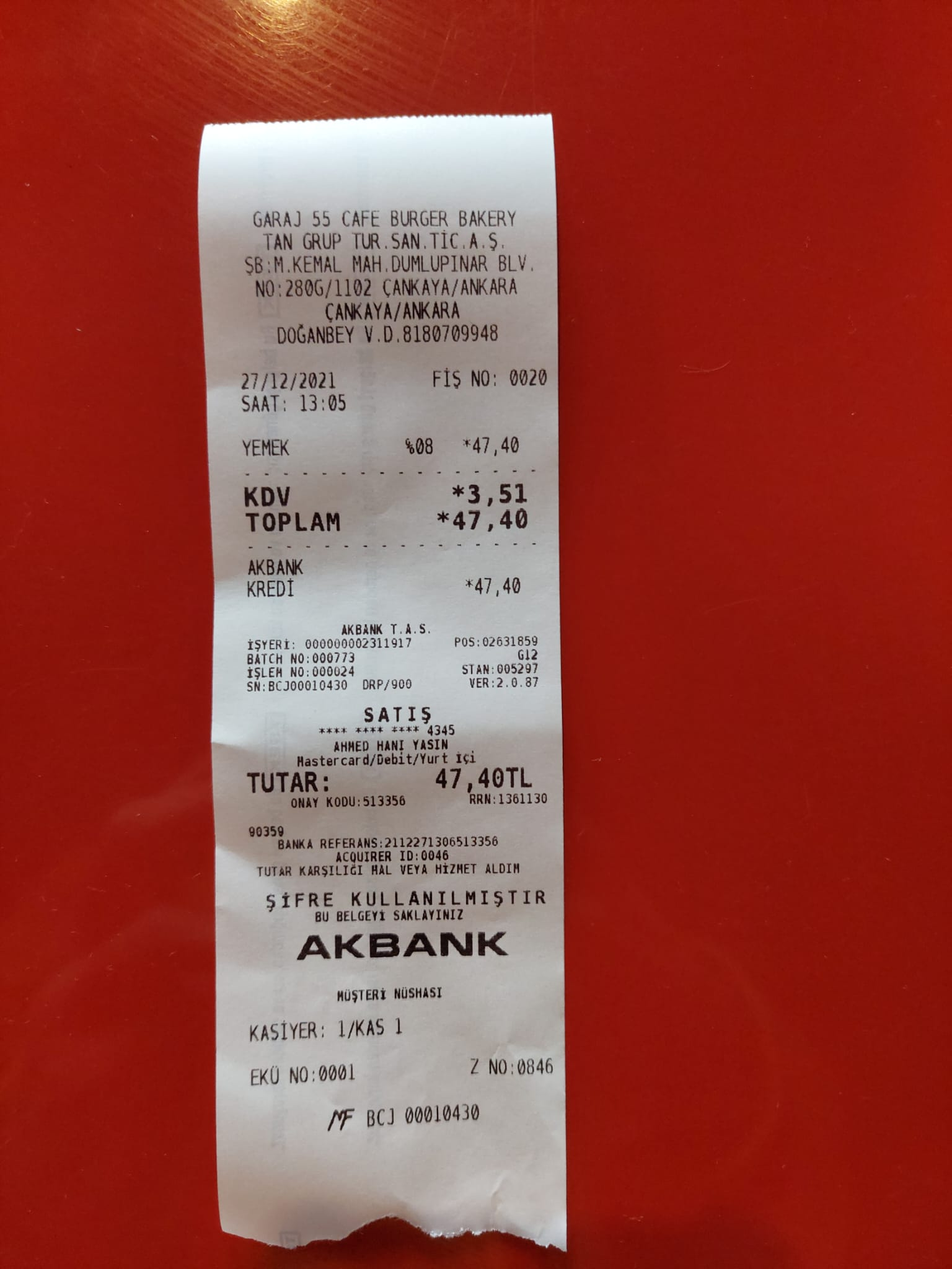date: (429, 766, 547, 793)
price: (232, 362, 341, 394)
workplace: (230, 198, 542, 325)
